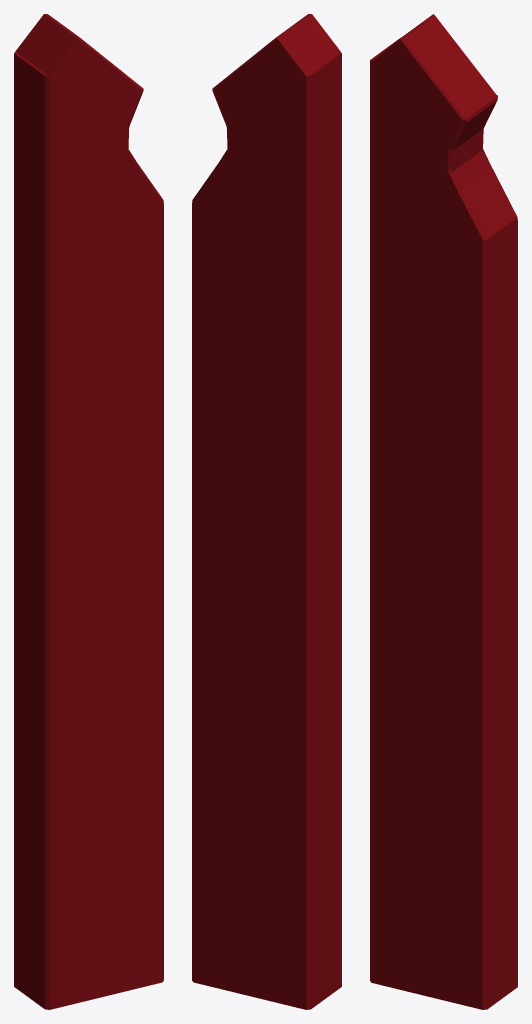
The model's file is SM_MH_01_Wood_Pillar_05.fbx.
3 views of the same model, side by side, from view 1: azimuth 30°, elevation 25°; view 2: azimuth 150°, elevation 25°; view 3: azimuth 330°, elevation 25° (orthographic).
Parts seen in each view (by area): view 1: SM_MH_01_Wood_Pillar_05_LOD0; view 2: SM_MH_01_Wood_Pillar_05_LOD0; view 3: SM_MH_01_Wood_Pillar_05_LOD0.
Part boxes in pixels (x1,y1,x2,y2): SM_MH_01_Wood_Pillar_05_LOD0: [14, 14, 163, 1009]; SM_MH_01_Wood_Pillar_05_LOD0: [192, 14, 341, 1009]; SM_MH_01_Wood_Pillar_05_LOD0: [370, 14, 517, 1009].
Size of what is drawn, in the model's own units: 40 by 310 by 20.
